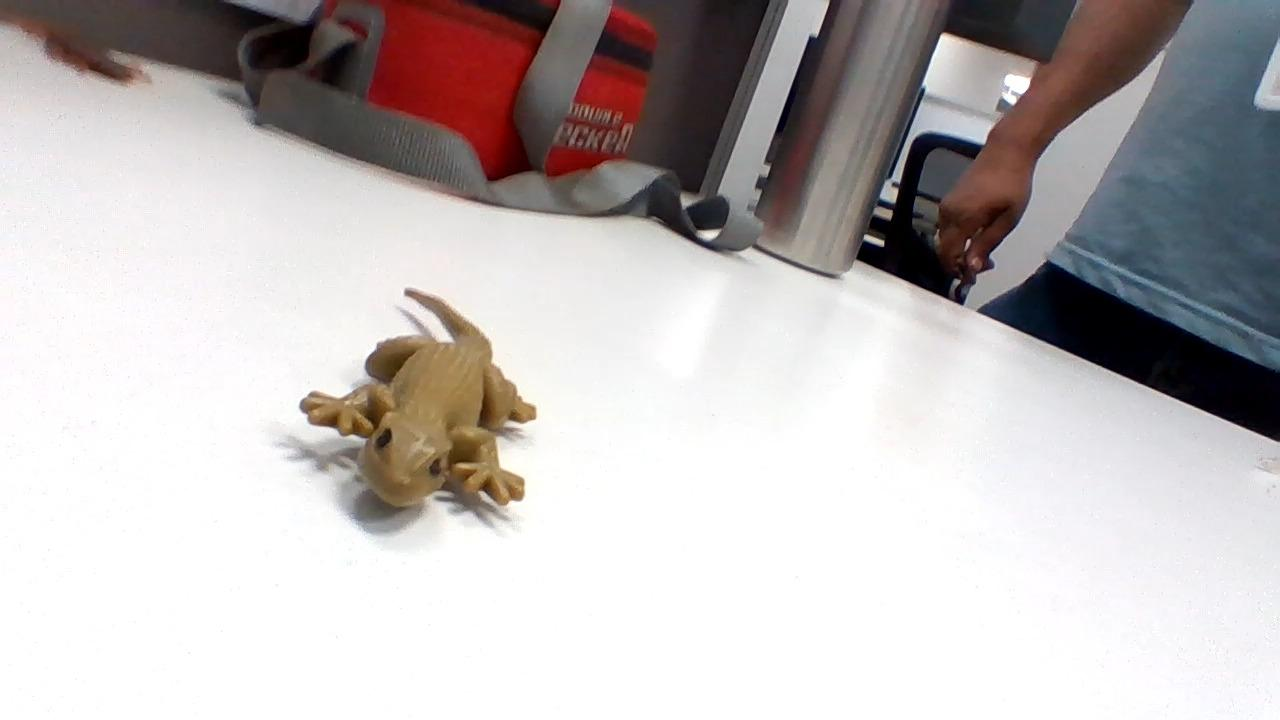lizard: (299, 285, 539, 514)
